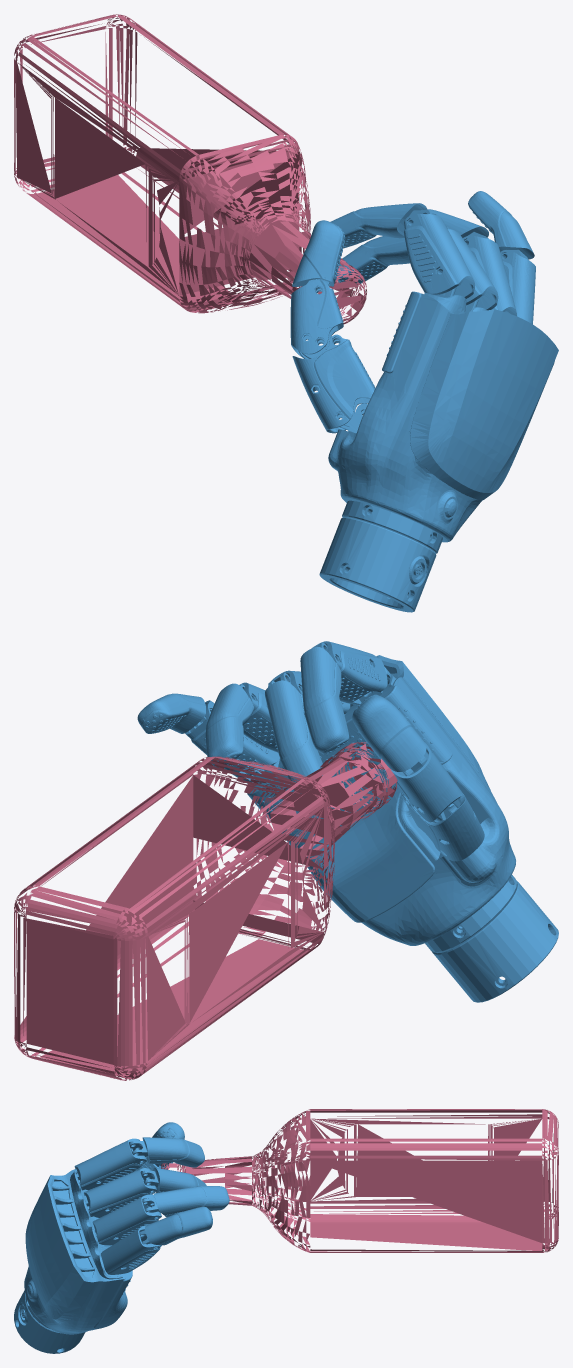
3 renders of one model, top to bottom at view 1: azimuth 30°, elevation 25°; view 2: azimuth 150°, elevation 25°; view 3: azimuth 270°, elevation 25°, orthographic. The views are drawn at different scales.
Parts seen in each view (by area): view 1: 2; view 2: 2; view 3: 2.
Boxes of the visible parts, left/top/right/bottom form: 2: left=14, top=14, right=558, bottom=612; 2: left=14, top=641, right=558, bottom=1080; 2: left=14, top=1109, right=558, bottom=1353.
Size of the model in its own units: 0.156 by 0.1836 by 0.3706.
